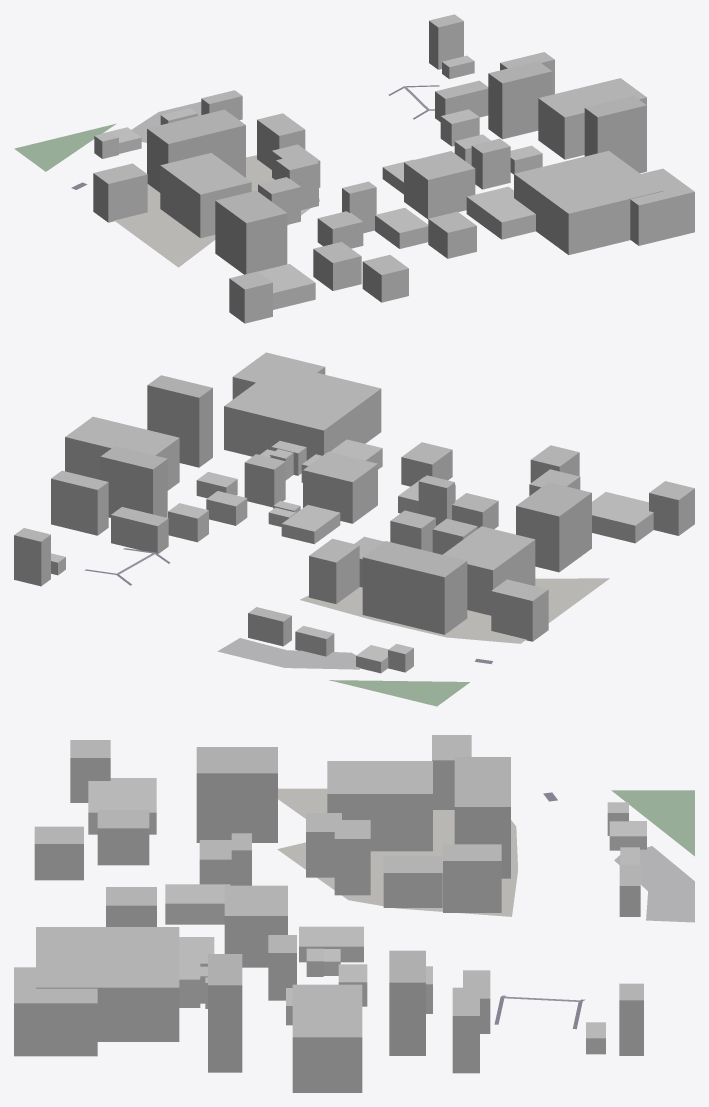
The model's file is 131_96_mid.glb.
The picture shows the model from 3 angles, top to bottom: view 1: azimuth 30°, elevation 25°; view 2: azimuth 150°, elevation 25°; view 3: azimuth 270°, elevation 25°; orthographic projection. The views are drawn at different scales.
Size of the model in its own units: 543 by 74.62 by 500.
